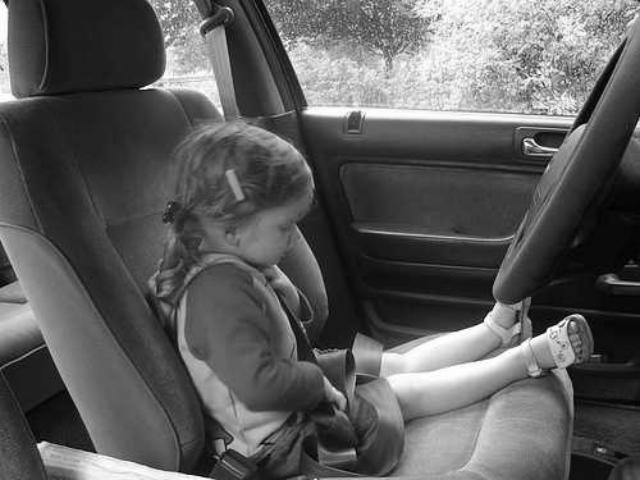Seatbelt: (194, 3, 246, 124)
